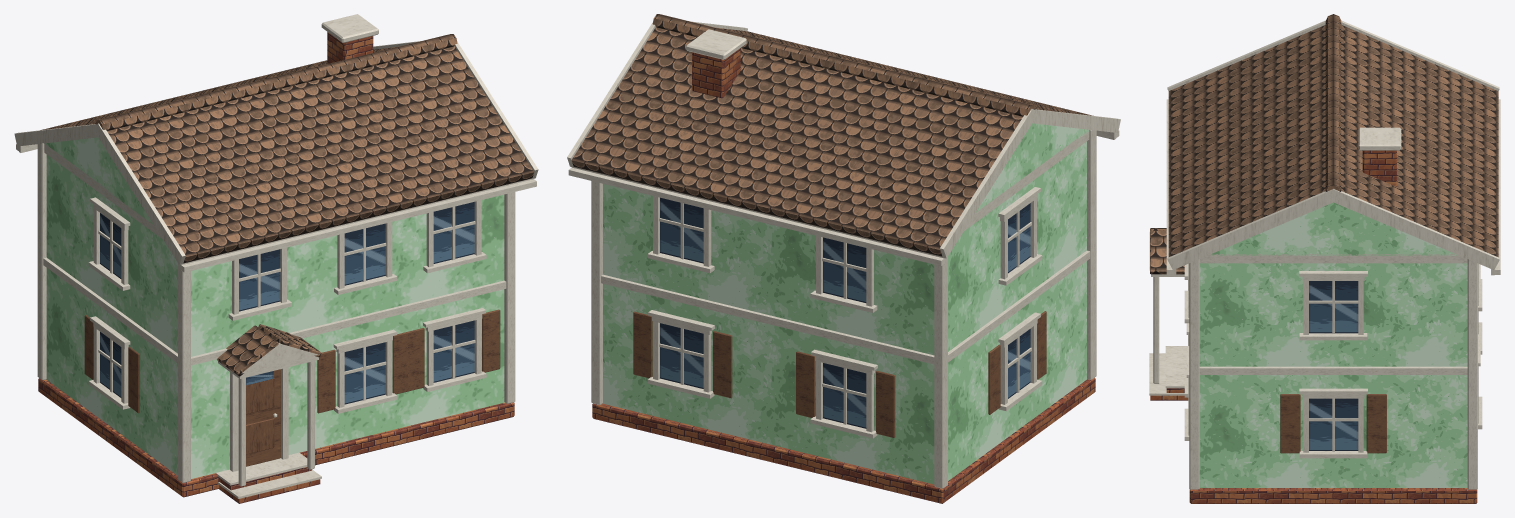
File: house_two_story.glb
3 views of the same model, side by side, from view 1: azimuth 30°, elevation 25°; view 2: azimuth 150°, elevation 25°; view 3: azimuth 270°, elevation 25° (orthographic). The views are drawn at different scales.
Visible parts, largest first — view 1: House; view 2: House; view 3: House.
Boxes of the visible parts, x1,y1,x2,y2 form: House: (14, 14, 538, 503); House: (567, 14, 1120, 503); House: (1149, 14, 1500, 503).
Size of the model in its own units: 8.79 by 7.97 by 7.57.
Materials: 4 (4 with a texture image).
